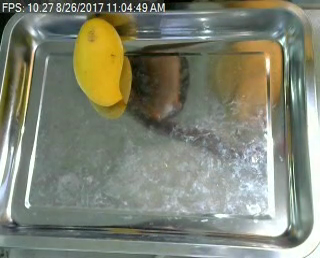Mango: (68, 17, 132, 109)
